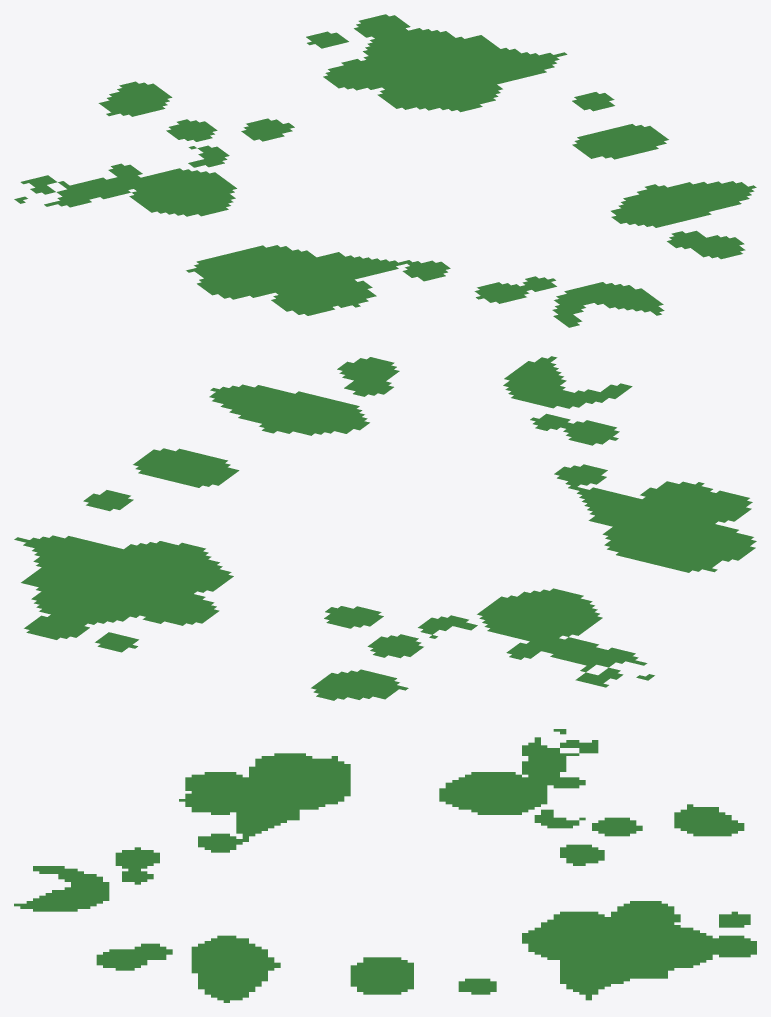
Rendered from Isl-start2-TreesArea.fbx.
The picture shows the model from 3 angles, top to bottom: view 1: azimuth 30°, elevation 25°; view 2: azimuth 150°, elevation 25°; view 3: azimuth 270°, elevation 25°; orthographic projection. The views are drawn at different scales.
Visible parts, largest first — view 1: Isl-start2-TreesArea; view 2: Isl-start2-TreesArea; view 3: Isl-start2-TreesArea.
Part boxes in pixels (x1=…): Isl-start2-TreesArea: x1=14, y1=14, x2=756, y2=327; Isl-start2-TreesArea: x1=14, y1=356, x2=756, y2=700; Isl-start2-TreesArea: x1=14, y1=729, x2=756, y2=1002.
Bounding box in the file's own units: 102 × 0 × 117.
